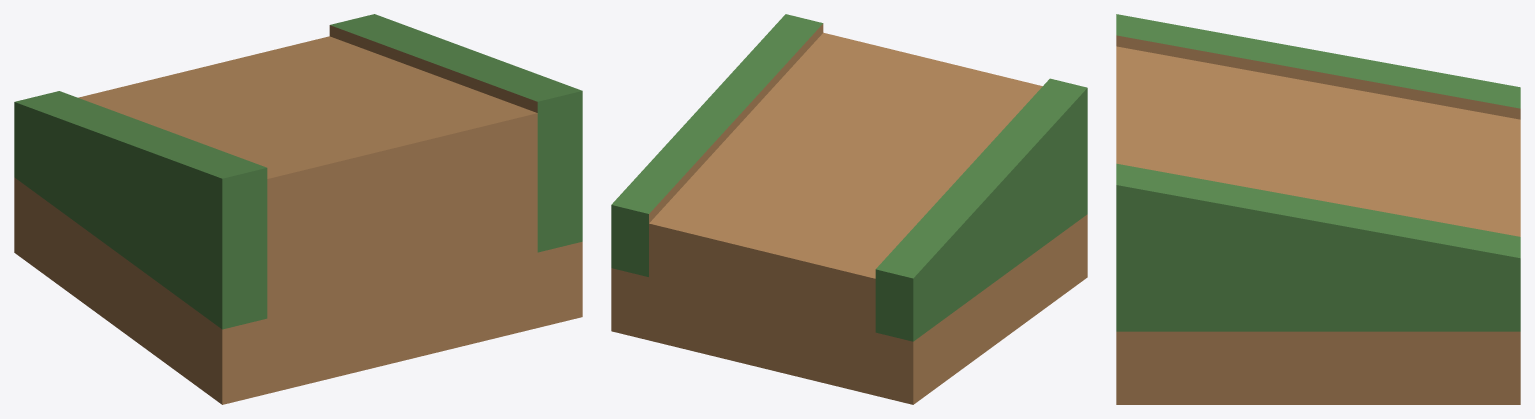
The model's file is tile_103.fbx.
3 renders of one model, left to right at view 1: azimuth 30°, elevation 25°; view 2: azimuth 150°, elevation 25°; view 3: azimuth 270°, elevation 25°, orthographic. The views are drawn at different scales.
Parts seen in each view (by area): view 1: tile_103; view 2: tile_103; view 3: tile_103.
Boxes of the visible parts, left/top/right/bottom form: tile_103: left=14, top=14, right=582, bottom=404; tile_103: left=611, top=14, right=1087, bottom=404; tile_103: left=1116, top=14, right=1520, bottom=404.
Size of the model in its own units: 10 by 6 by 10.
